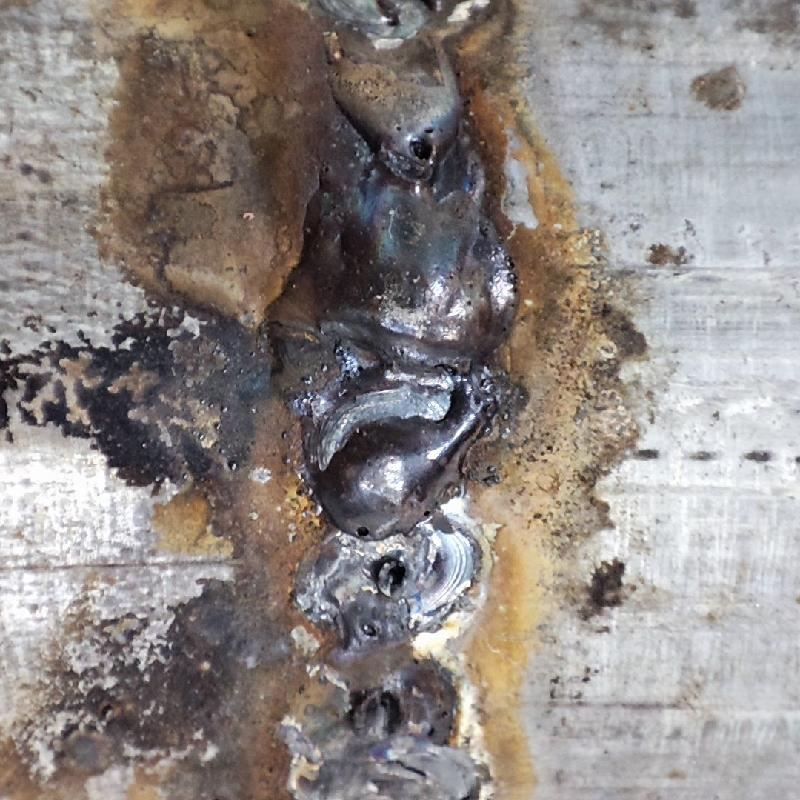Not_fully_soldered: (287, 530, 489, 798), (305, 0, 479, 180)
Surface_pores: (378, 115, 448, 166), (340, 514, 383, 547)
Weld: (258, 176, 523, 545)
